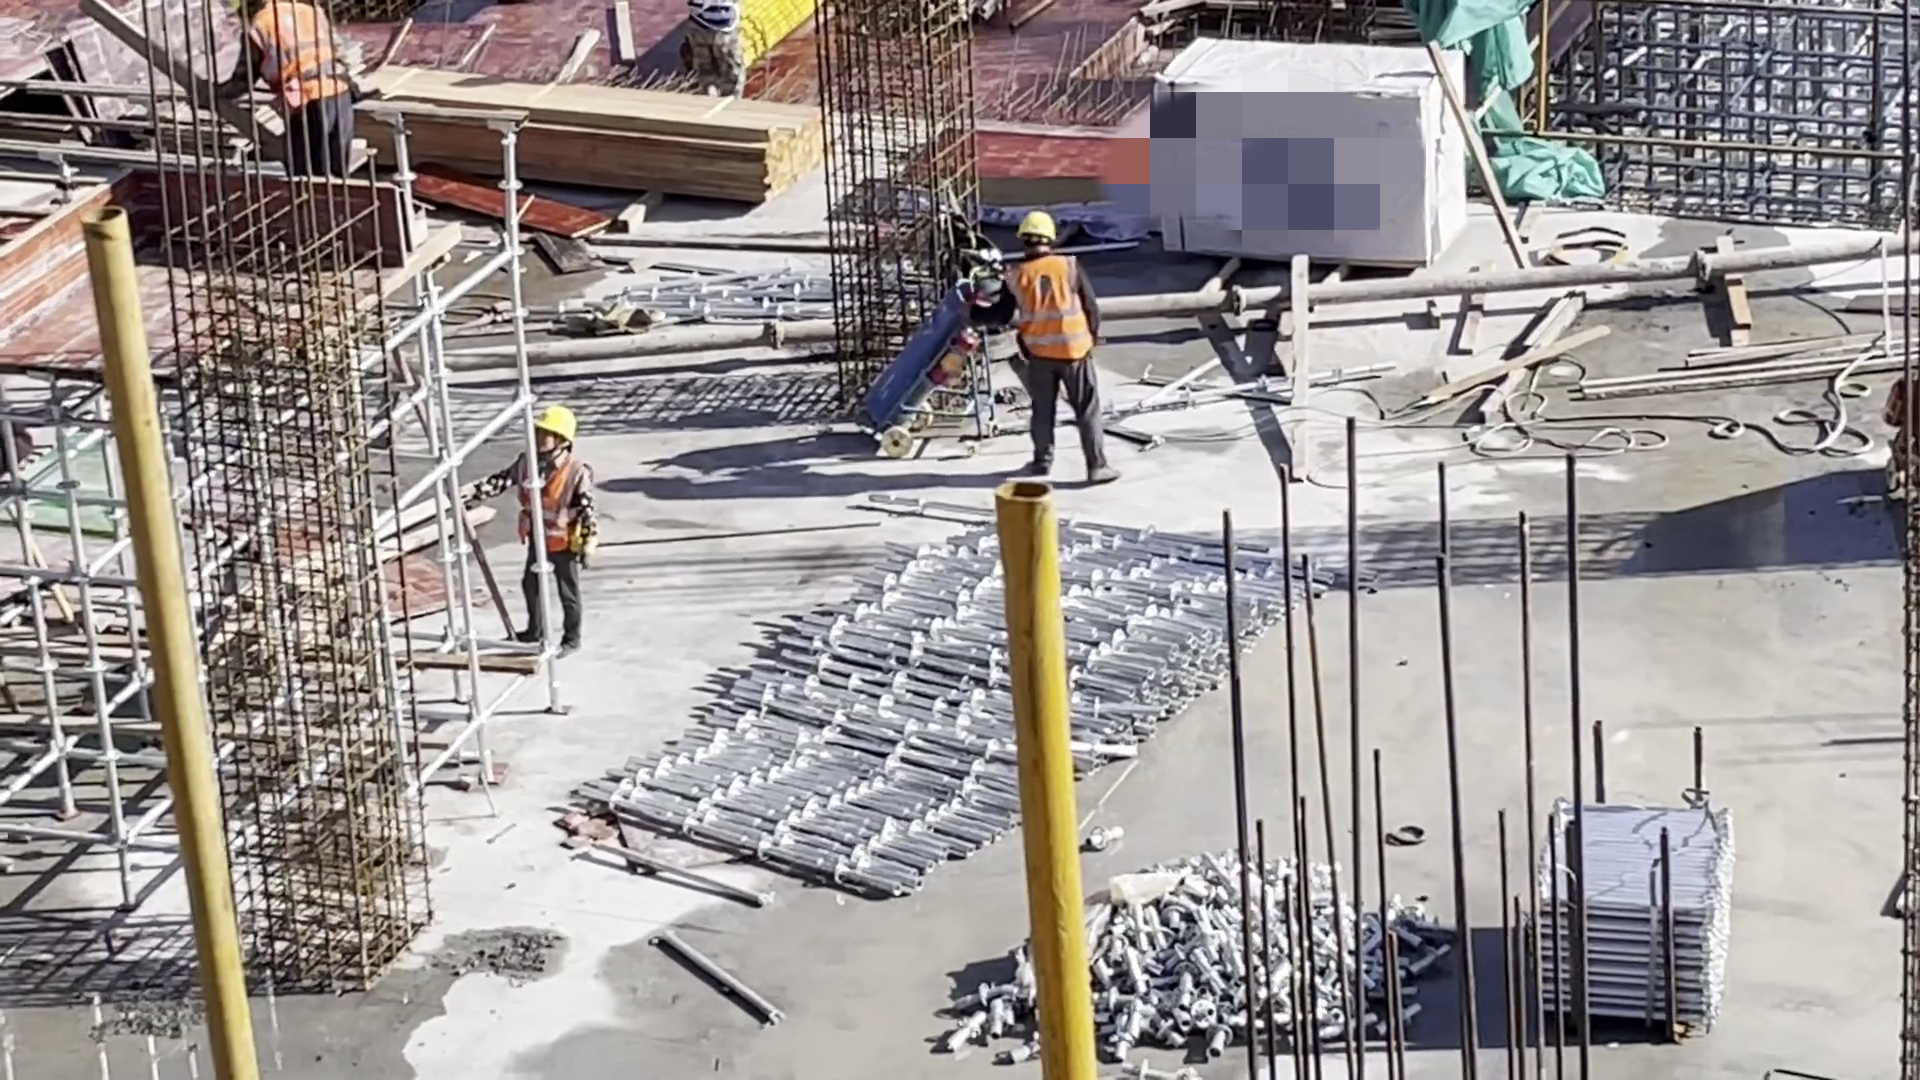helmet: (526, 401, 574, 441), (1020, 209, 1061, 245)
person: (467, 405, 603, 650), (1008, 208, 1118, 498), (223, 2, 366, 179), (677, 2, 745, 94)
scaffold: (562, 493, 1335, 904), (1537, 798, 1731, 1044)
vest: (252, 7, 347, 107), (1011, 259, 1091, 365), (515, 453, 583, 567)
wood: (366, 72, 835, 203)
